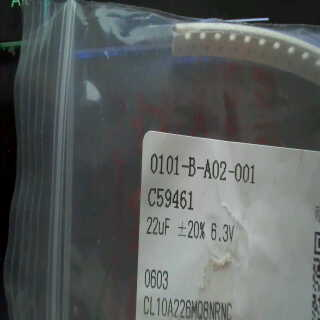22uF: (144, 215, 173, 241)
